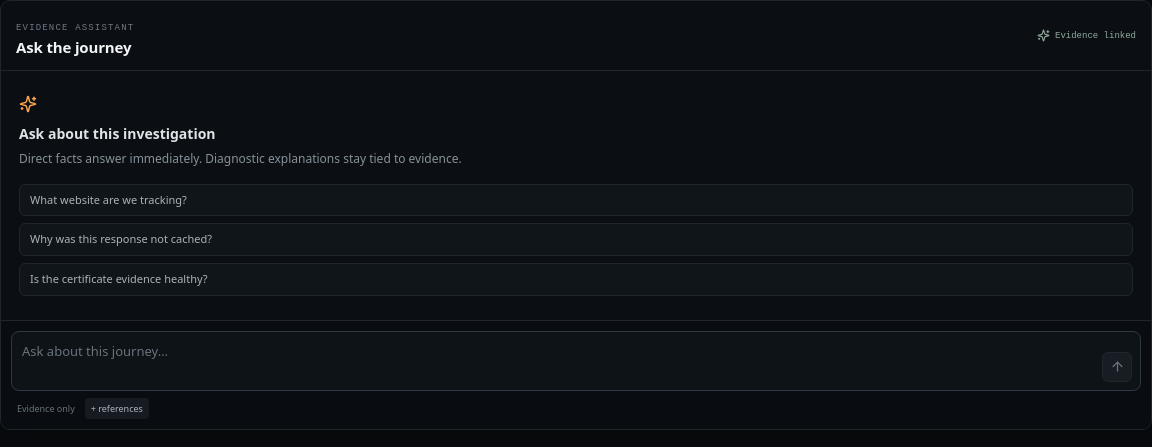
Scenario: AI investigation panel › renders a validated inconclusive answer without pretending certainty
This screenshot has width=1152, height=447.
In the text box named "Ask about this investigation": (558, 361) [20,340,1095,382], type "Why is this page slow?"
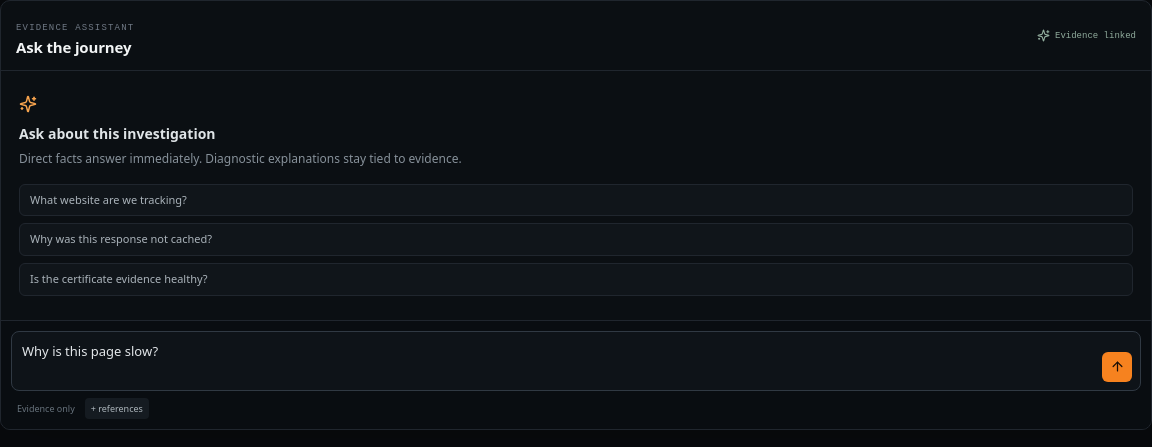
Click the button named "Submit question": (1117, 367) [1102,352,1132,382]
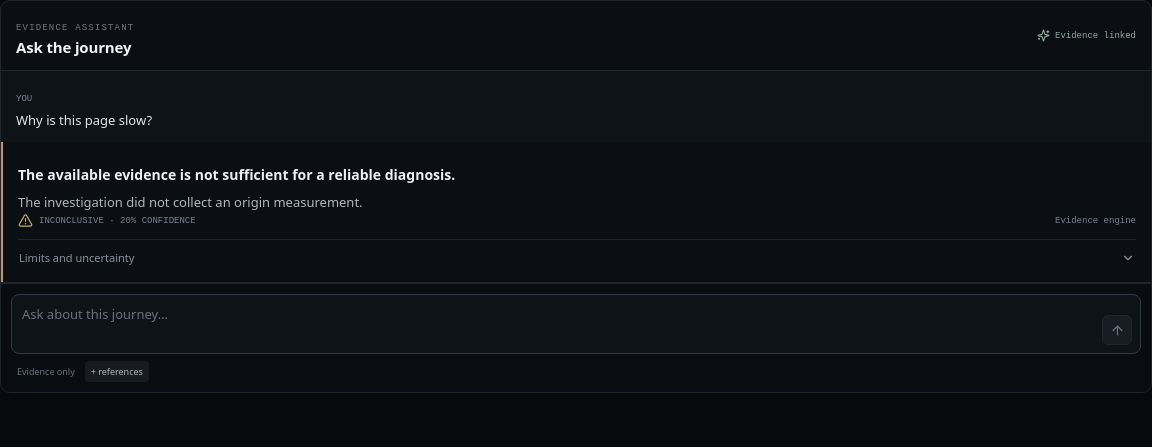
Result: the heading "not sufficient for a reliable diagnosis" is shown at [18,164,455,184]
Result: the text "inconclusive · 20% confidence" is shown at [39,216,196,226]
